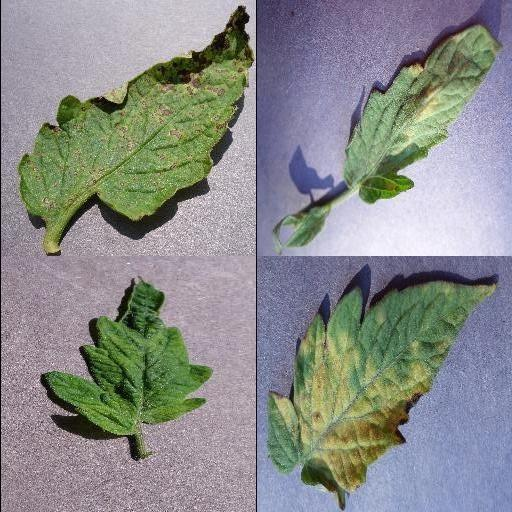Leaf Mold: (265, 279, 499, 511), (342, 25, 502, 206)
Mosaic Virus: (41, 276, 215, 436)
Septoria: (19, 5, 253, 223)
